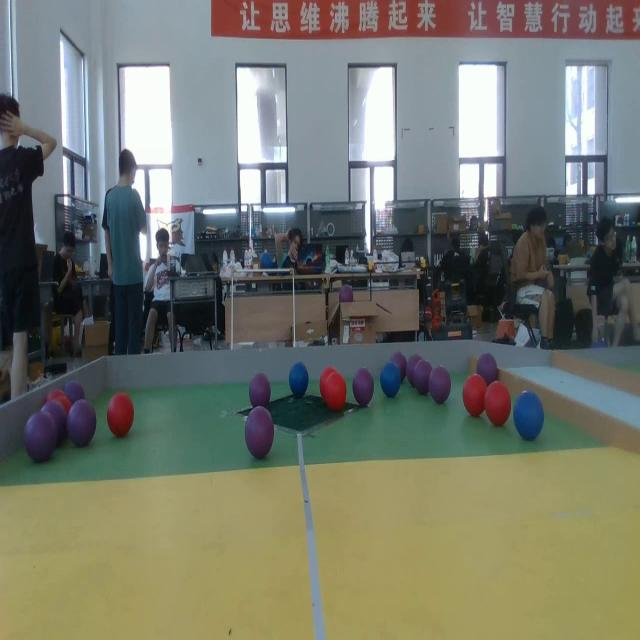blue: (514, 392, 544, 443), (380, 362, 402, 397), (289, 359, 308, 399)
invalid: (23, 411, 58, 469), (246, 406, 276, 458), (66, 402, 97, 447), (248, 372, 274, 407), (351, 369, 374, 408), (430, 365, 452, 403), (415, 362, 435, 390), (478, 354, 498, 381)
red: (108, 389, 136, 441), (486, 381, 511, 425), (463, 372, 487, 417), (324, 369, 348, 412), (320, 365, 336, 394), (52, 395, 69, 419), (47, 388, 65, 407)
